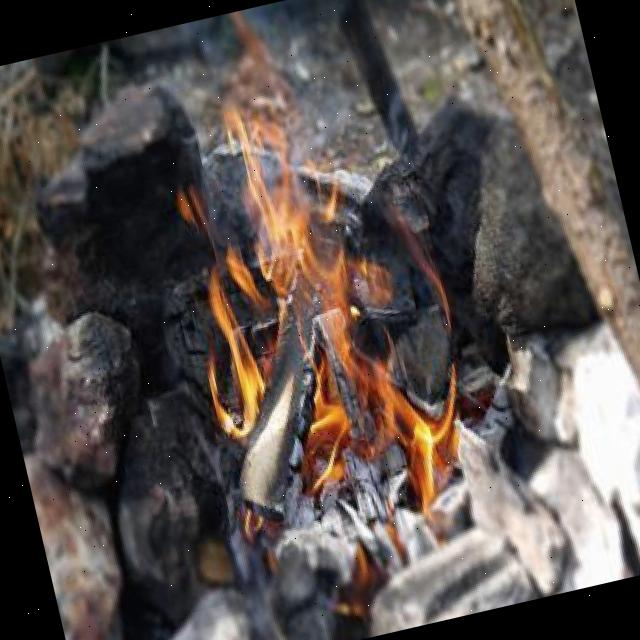fire: (160, 113, 486, 552)
